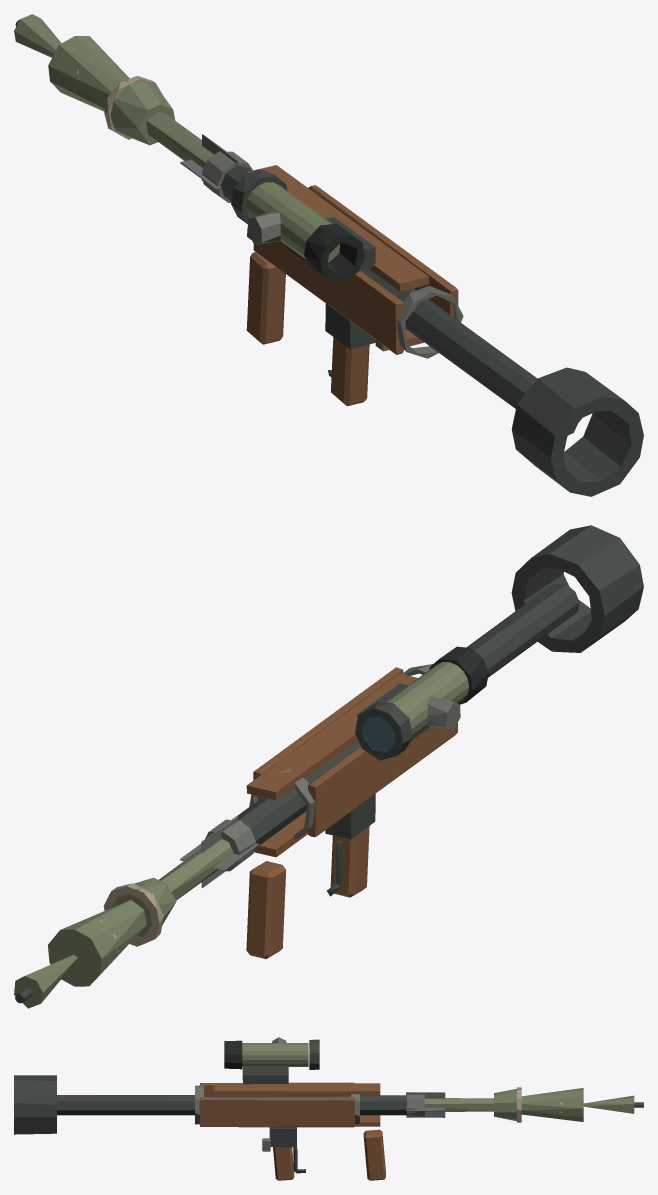
File: rpg7-support-lod.glb
3 views of the same model, one above another, from view 1: azimuth 30°, elevation 25°; view 2: azimuth 150°, elevation 25°; view 3: azimuth 270°, elevation 25° (orthographic). The views are drawn at different scales.
Parts seen in each view (by area): view 1: RPGTube_phosphate steel, RPGTube_oiled wood, Magazine_olive paint, RPGTube_worn edges, RPGTube_olive paint, RPGTube_black rubber; view 2: RPGTube_phosphate steel, RPGTube_oiled wood, Magazine_olive paint, RPGTube_worn edges, RPGTube_olive paint, RPGTube_black rubber, Magazine_weathered sand, Magazine_worn edges, RPGTube_glass; view 3: RPGTube_oiled wood, RPGTube_phosphate steel, Magazine_olive paint, RPGTube_olive paint, RPGTube_worn edges, RPGTube_black rubber, Magazine_worn edges.
Part boxes in pixels (x1,y1,x2,y2): RPGTube_phosphate steel: (220, 165, 643, 496); RPGTube_oiled wood: (246, 165, 458, 406); Magazine_olive paint: (14, 14, 213, 168); RPGTube_worn edges: (202, 151, 463, 358); RPGTube_olive paint: (246, 182, 339, 262); RPGTube_black rubber: (304, 223, 364, 282); RPGTube_phosphate steel: (237, 525, 643, 896); RPGTube_oiled wood: (246, 667, 457, 958); Magazine_olive paint: (14, 839, 233, 1008); RPGTube_worn edges: (205, 664, 460, 871); RPGTube_olive paint: (385, 662, 469, 736); RPGTube_black rubber: (429, 646, 488, 704); Magazine_weathered sand: (99, 883, 163, 952); Magazine_worn edges: (180, 816, 259, 887); RPGTube_glass: (363, 716, 395, 751); RPGTube_oiled wood: (199, 1082, 385, 1180); RPGTube_phosphate steel: (14, 1039, 406, 1173); Magazine_olive paint: (424, 1088, 634, 1121); RPGTube_olive paint: (242, 1043, 308, 1066); RPGTube_worn edges: (195, 1037, 424, 1124); RPGTube_black rubber: (224, 1040, 242, 1069); Magazine_worn edges: (406, 1092, 445, 1117).
Bounding box in the file's own units: 0.2355 × 0.342 × 1.61.
